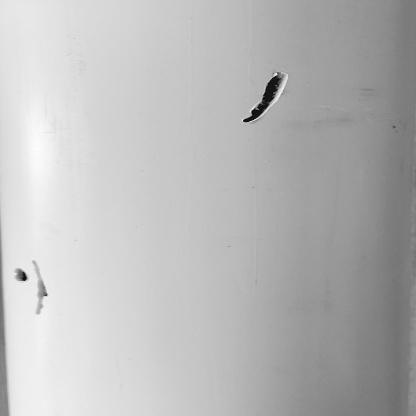fengxi: (32, 255, 57, 317)
kongdong: (241, 60, 288, 129), (7, 261, 32, 288)
